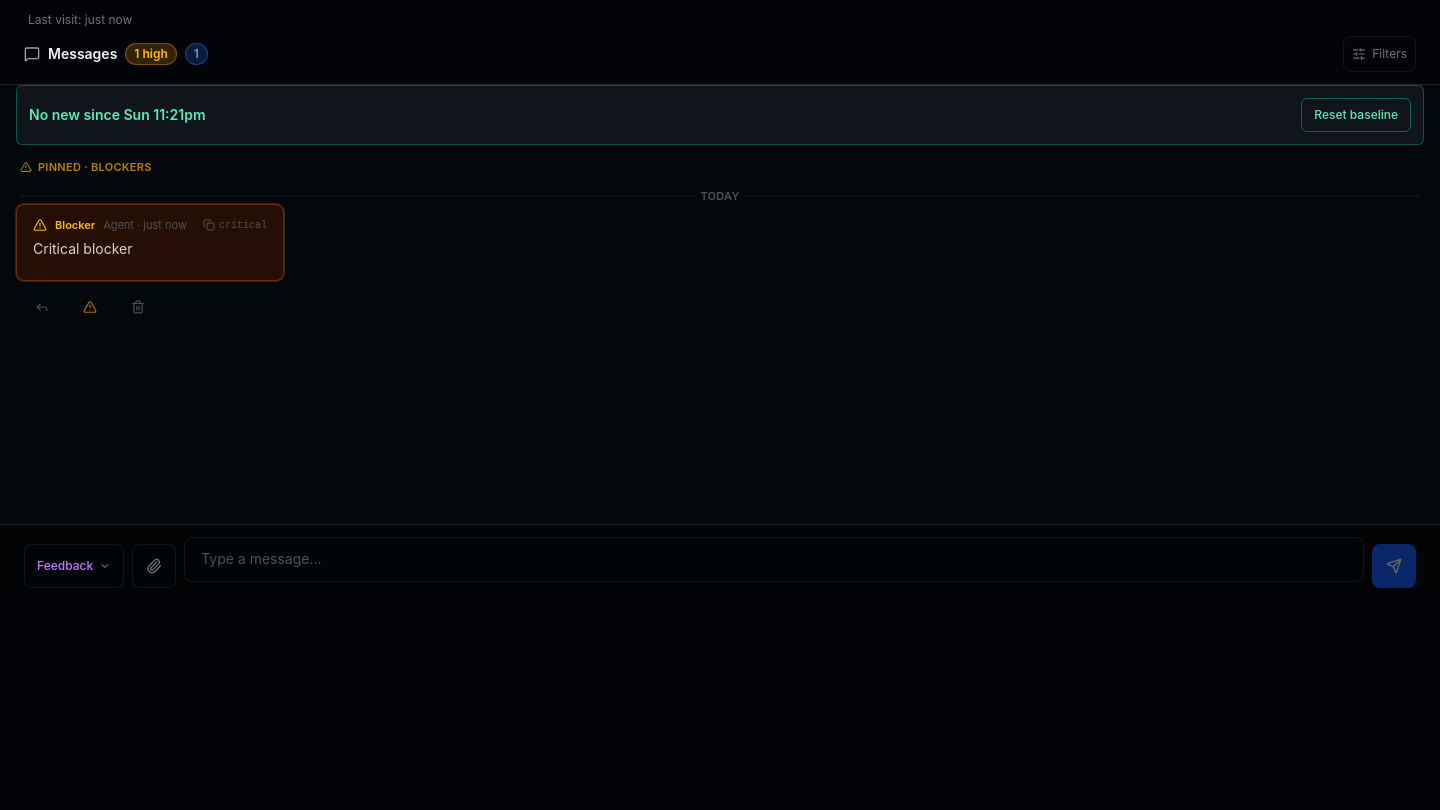
Scenario: MessagesPanel chrome modes › compact message chrome renders one filter command surface without duplicate controls
Click the button "Filters". click: (1380, 54)
box: [1343,36,1416,72]
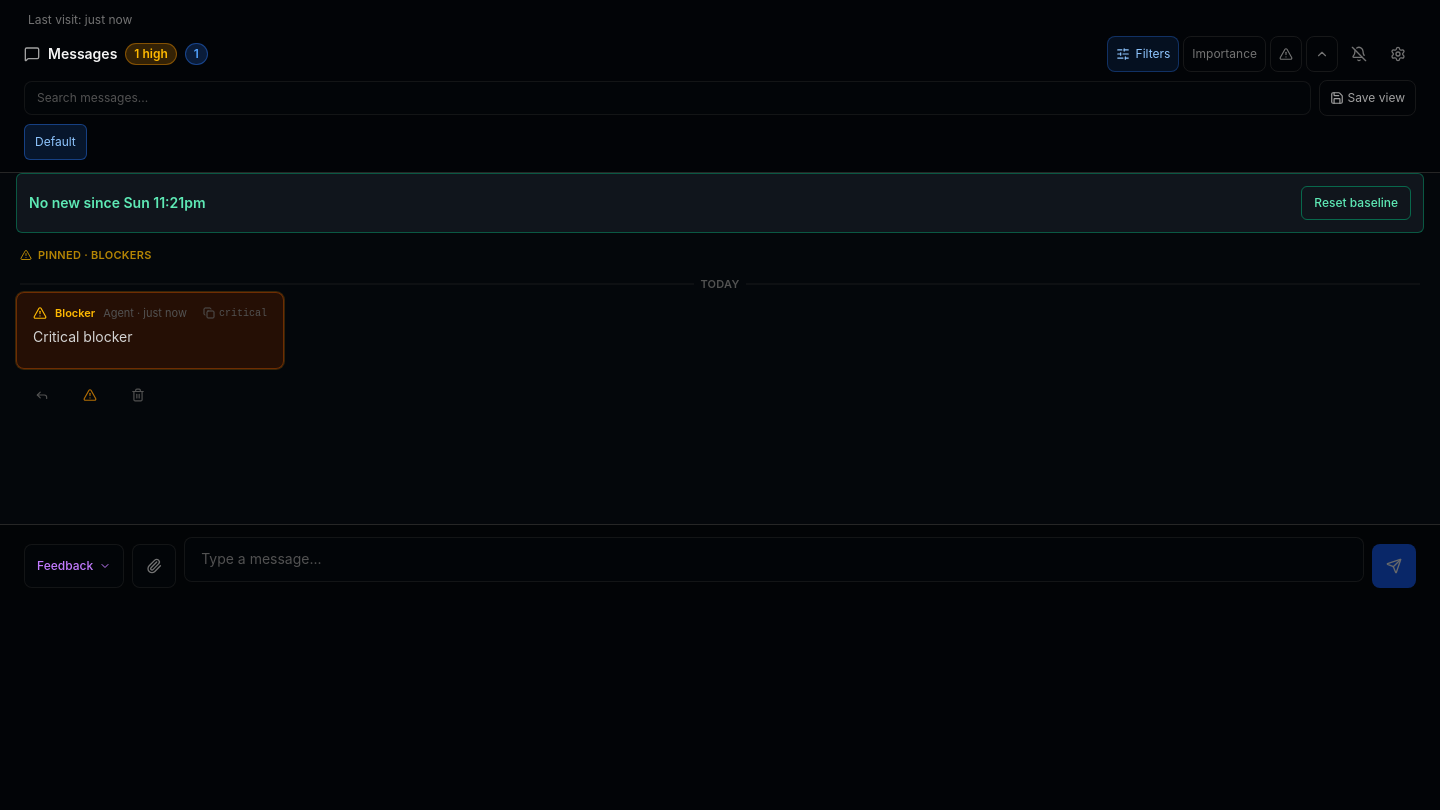
Now the number of elements with test id "saved-views-tab-strip" is 1, box [24,124,87,160]
